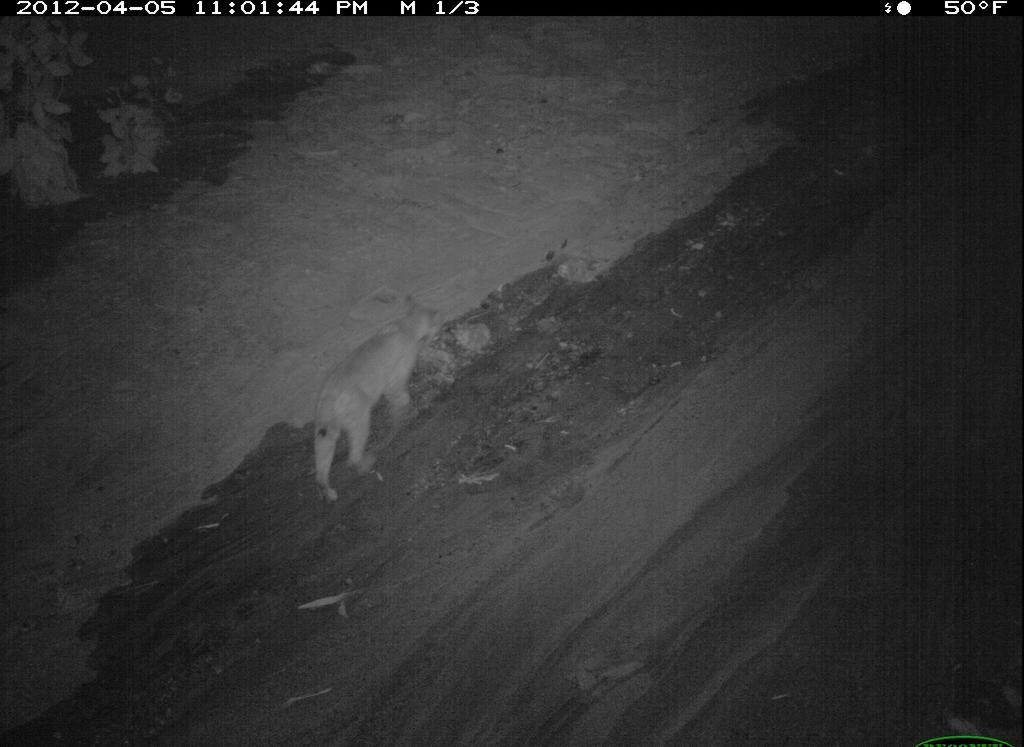bobcat: (613, 577, 905, 747)
